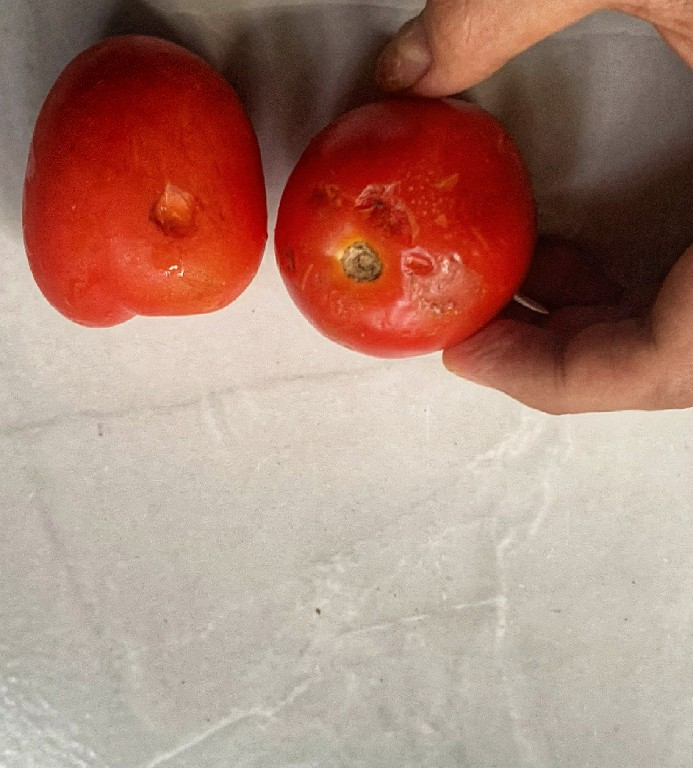NG: (19, 29, 267, 326), (276, 98, 532, 355)
